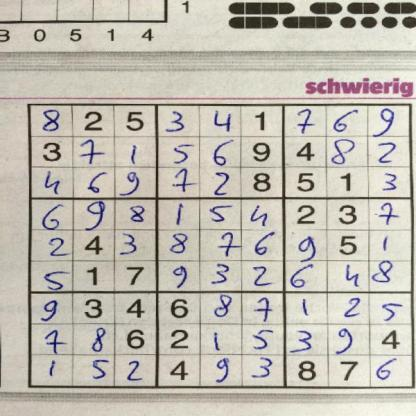sudoku: (23, 98, 416, 392)
